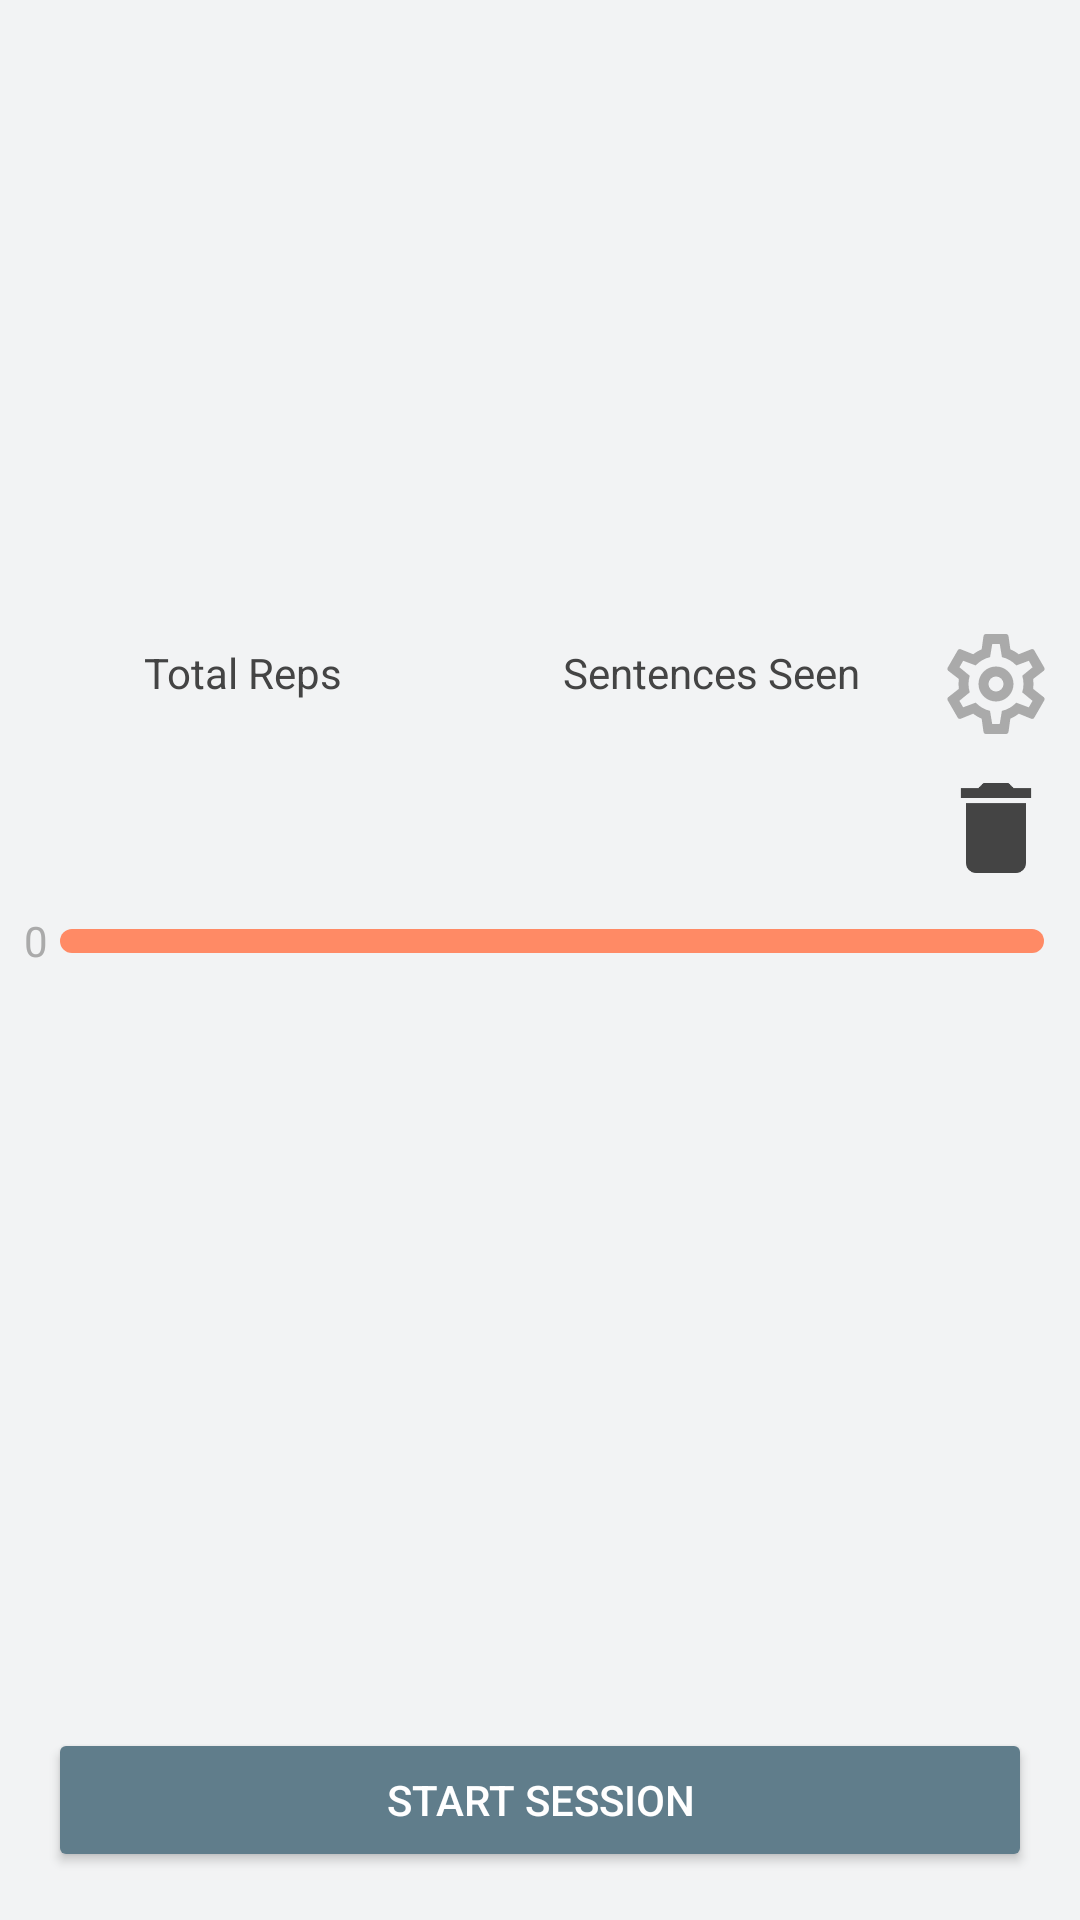

Where icons sit on this 1080px×1920px app screen, as (x1, y1, x2, y2):
Settings: (947, 634, 1045, 734)
